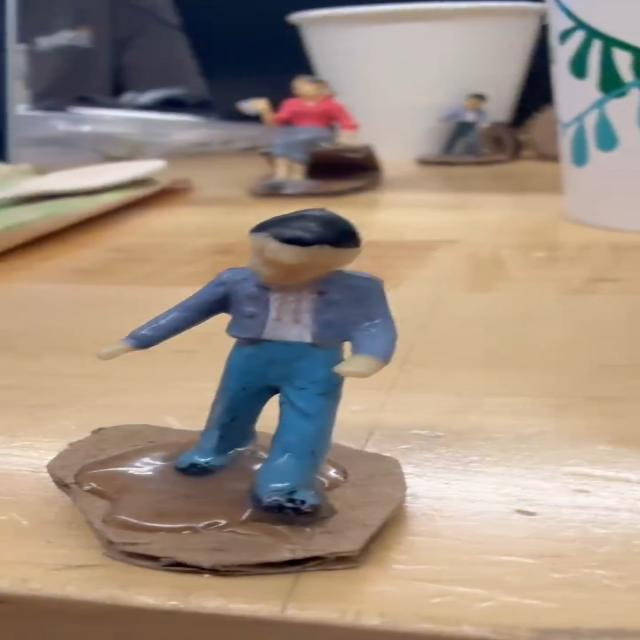Authorized: (106, 205, 398, 534)
